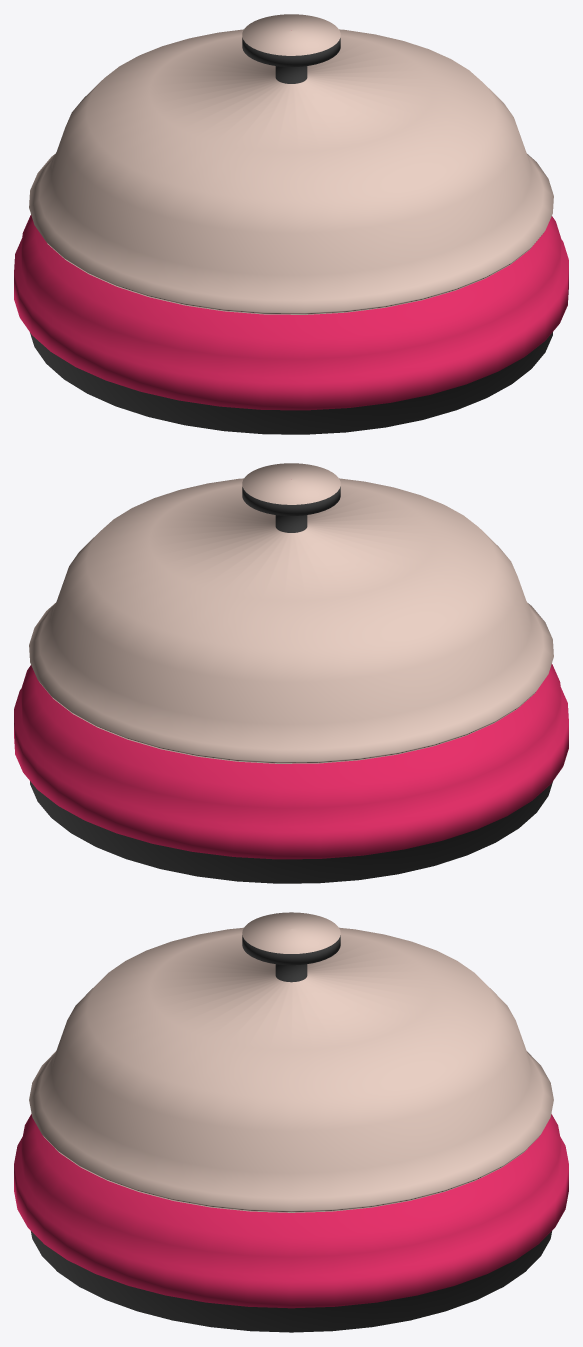
File: Front-Desk-Bell.fbx
The picture shows the model from 3 angles, top to bottom: view 1: azimuth 30°, elevation 25°; view 2: azimuth 150°, elevation 25°; view 3: azimuth 270°, elevation 25°; orthographic projection.
Visible parts, largest first — view 1: Cylinder; view 2: Cylinder; view 3: Cylinder.
Part boxes in pixels (box(x1,y1,x2,y2)): Cylinder: box(14, 14, 568, 434); Cylinder: box(14, 463, 568, 883); Cylinder: box(14, 912, 568, 1332).
Size of the model in its own units: 8.15 by 4.82 by 8.15.
